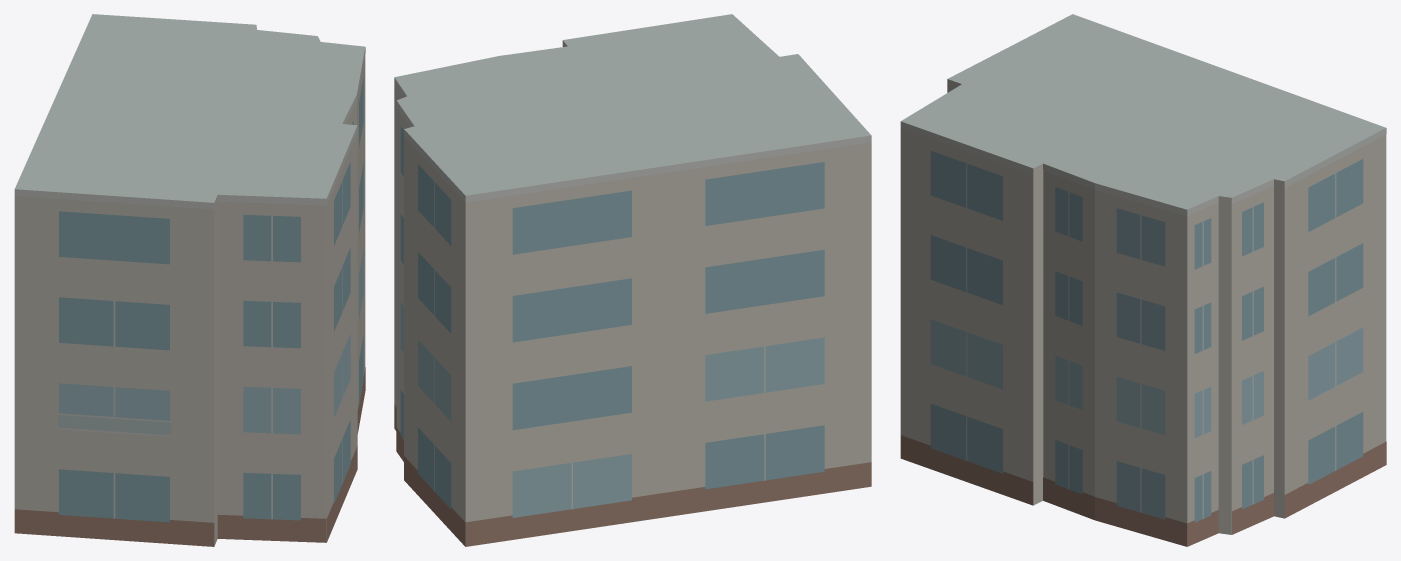
File: survey-upis-32894029.glb
3 views of the same model, side by side, from view 1: azimuth 30°, elevation 25°; view 2: azimuth 150°, elevation 25°; view 3: azimuth 270°, elevation 25° (orthographic). The views are drawn at different scales.
Visible parts, largest first — view 1: survey-upis-32894029.tmp; view 2: survey-upis-32894029.tmp; view 3: survey-upis-32894029.tmp.
Part boxes in pixels (x1,y1,x2,y2): survey-upis-32894029.tmp: (14,14,365,546); survey-upis-32894029.tmp: (394,14,871,546); survey-upis-32894029.tmp: (900,14,1386,546).
Size of the model in its own units: 15.57 by 12.5 by 16.33.
